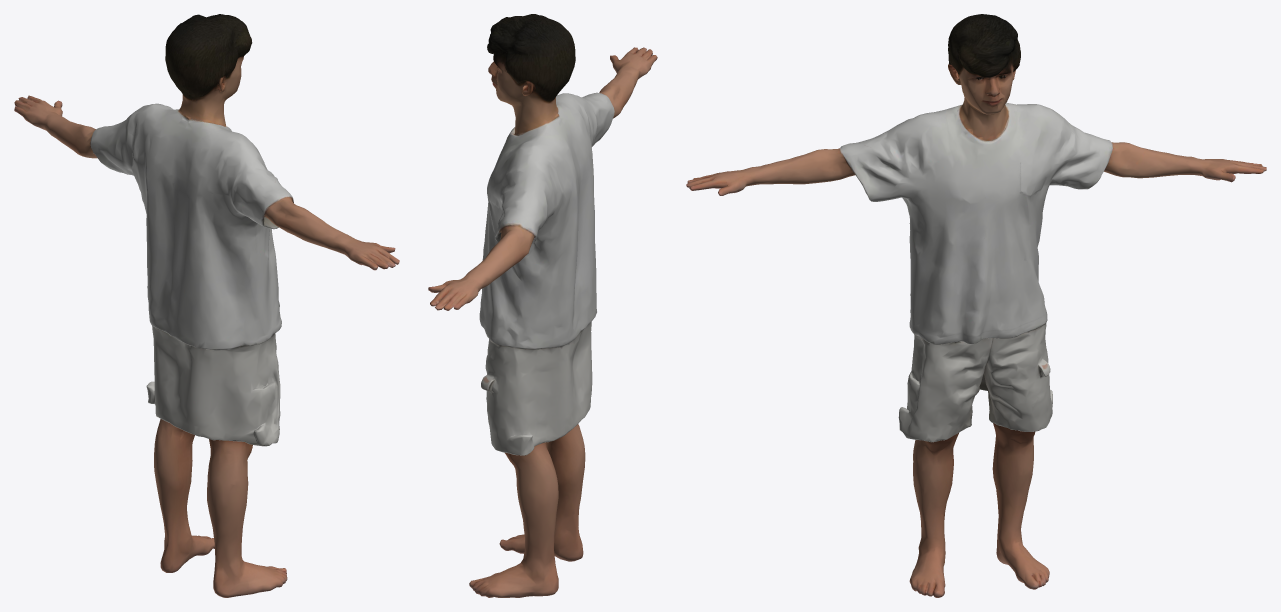
Rendered from quique.fbx.
3 views of the same model, side by side, from view 1: azimuth 30°, elevation 25°; view 2: azimuth 150°, elevation 25°; view 3: azimuth 270°, elevation 25° (orthographic).
Parts seen in each view (by area): view 1: meshes[0]; view 2: meshes[0]; view 3: meshes[0].
Part boxes in pixels (<box>): meshes[0]: <box>14,14,399,597</box>; meshes[0]: <box>428,14,657,597</box>; meshes[0]: <box>686,14,1266,597</box>.
Bounding box in the file's own units: 22.08 × 100 × 94.58.
1 material, 1 textured.
